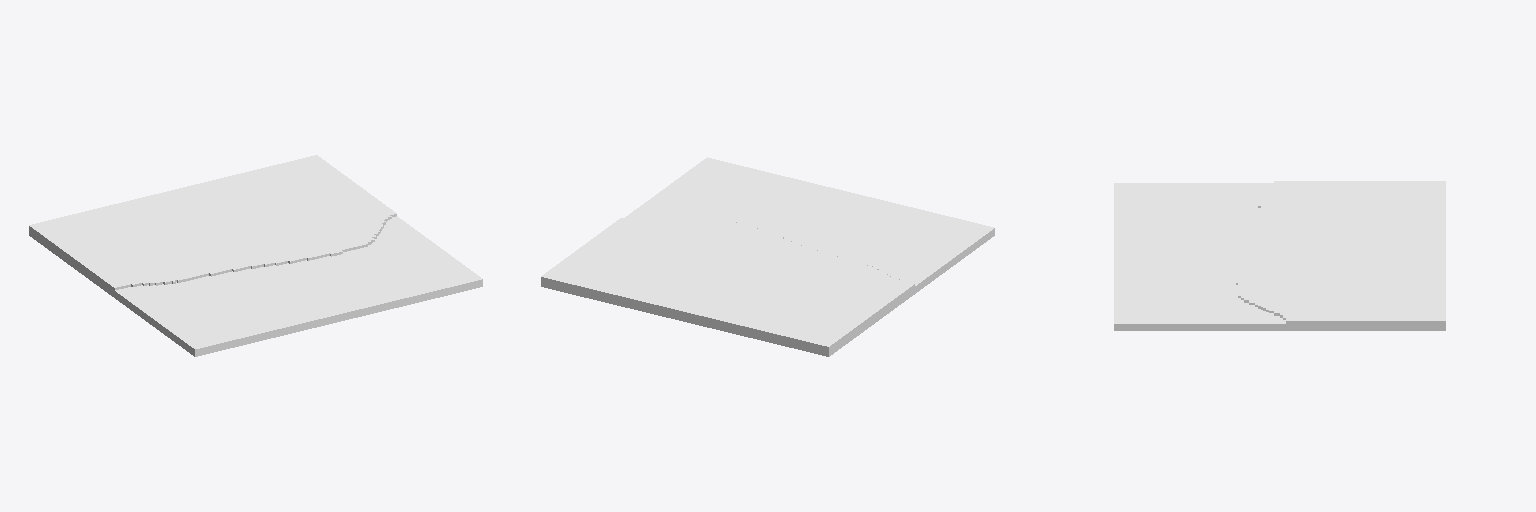
Rendered from swewew.obj.
3 views of the same model, side by side, from view 1: azimuth 30°, elevation 25°; view 2: azimuth 150°, elevation 25°; view 3: azimuth 270°, elevation 25° (orthographic).
Size of the model in its own units: 120 by 4 by 120.